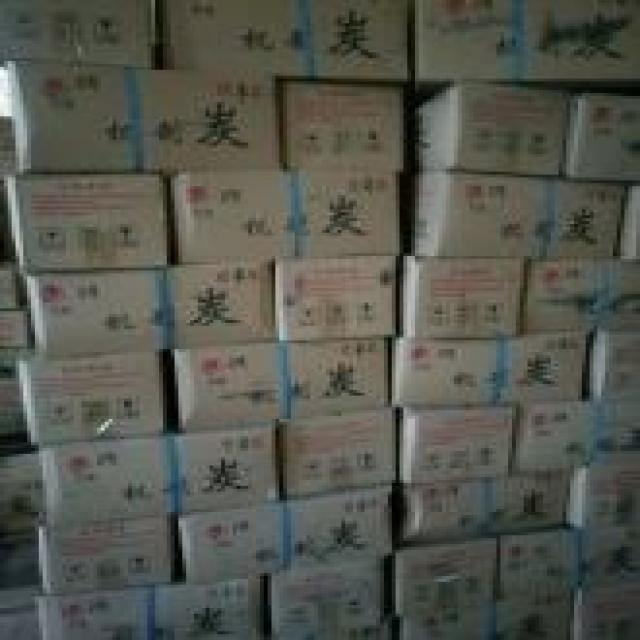box: (0, 61, 287, 172), (43, 422, 283, 527), (23, 262, 275, 358), (163, 166, 403, 265), (175, 483, 400, 585), (159, 337, 396, 433), (155, 0, 411, 81), (403, 172, 632, 256), (4, 169, 167, 273), (403, 81, 578, 175), (43, 573, 272, 637), (16, 349, 167, 445), (400, 474, 578, 553), (392, 335, 593, 404), (272, 404, 396, 500), (39, 512, 178, 596), (283, 79, 407, 172), (275, 256, 400, 343), (400, 256, 528, 337), (396, 401, 520, 483), (500, 527, 640, 599), (264, 556, 388, 637), (392, 535, 500, 625), (516, 399, 640, 474), (524, 256, 640, 335), (566, 81, 640, 186), (396, 593, 570, 637), (0, 436, 47, 532), (570, 471, 640, 527), (570, 585, 636, 640), (590, 329, 640, 401), (0, 585, 43, 640), (0, 529, 39, 588), (0, 311, 31, 369), (617, 186, 640, 259), (0, 367, 23, 439), (291, 625, 396, 640), (0, 113, 23, 177), (0, 241, 19, 311)
